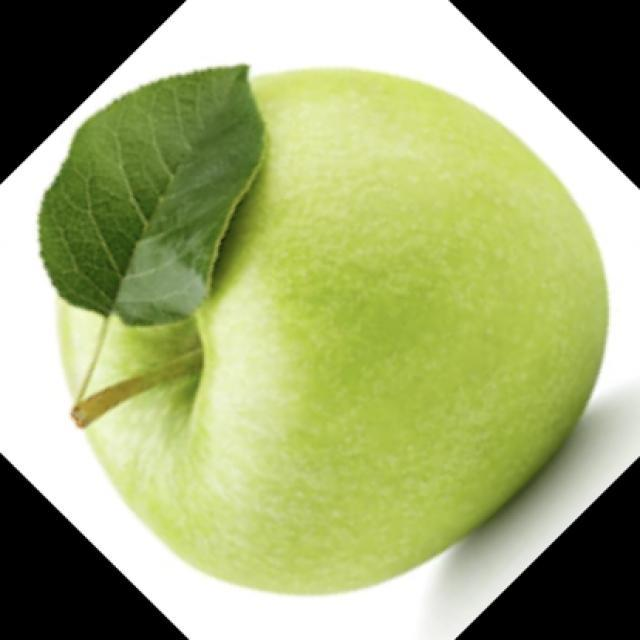Fresh Apple: (95, 65, 588, 563)
